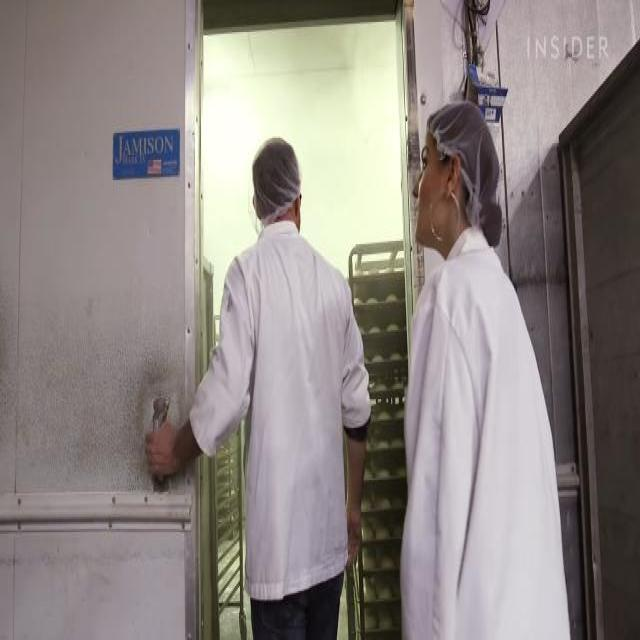bare_hand: (140, 411, 203, 495), (336, 473, 374, 561)
